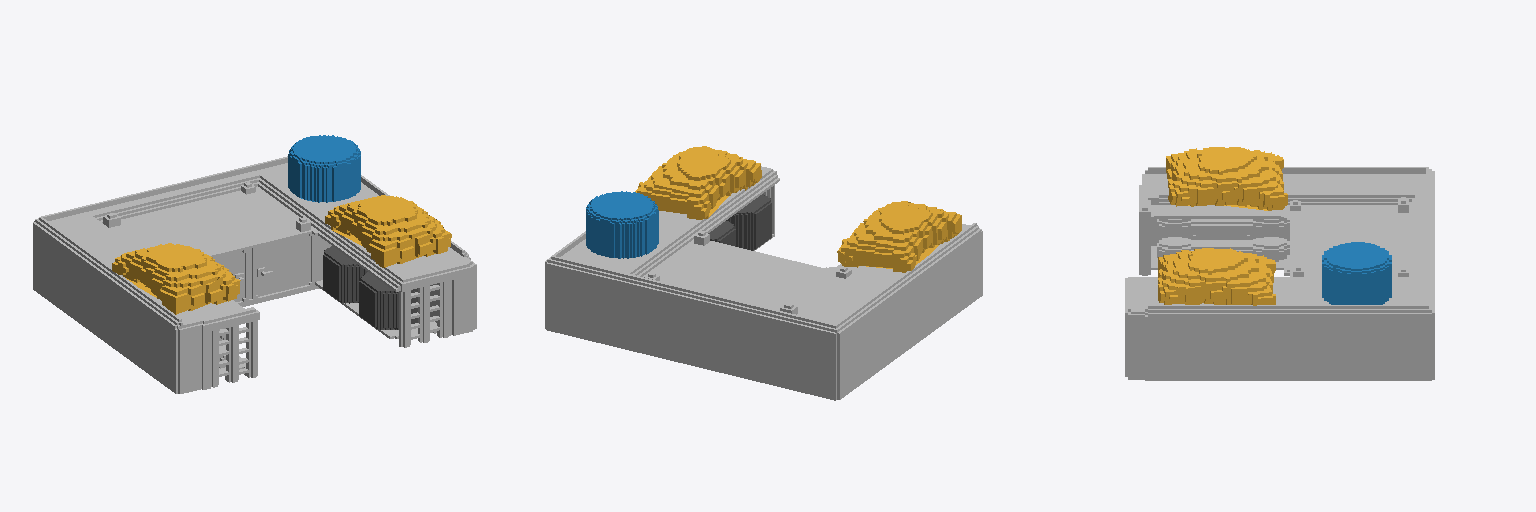
3 renders of one model, left to right at view 1: azimuth 30°, elevation 25°; view 2: azimuth 150°, elevation 25°; view 3: azimuth 270°, elevation 25°, orthographic.
Parts seen in each view (by area): view 1: Untitled; view 2: Untitled; view 3: Untitled.
Boxes of the visible parts, x1=… form: Untitled: x1=33, y1=135, x2=476, y2=393; Untitled: x1=545, y1=146, x2=982, y2=400; Untitled: x1=1125, y1=147, x2=1434, y2=380.
Bounding box in the file's own units: 3.6 × 1.23 × 3.27.
Materials: 4 (1 with a texture image).